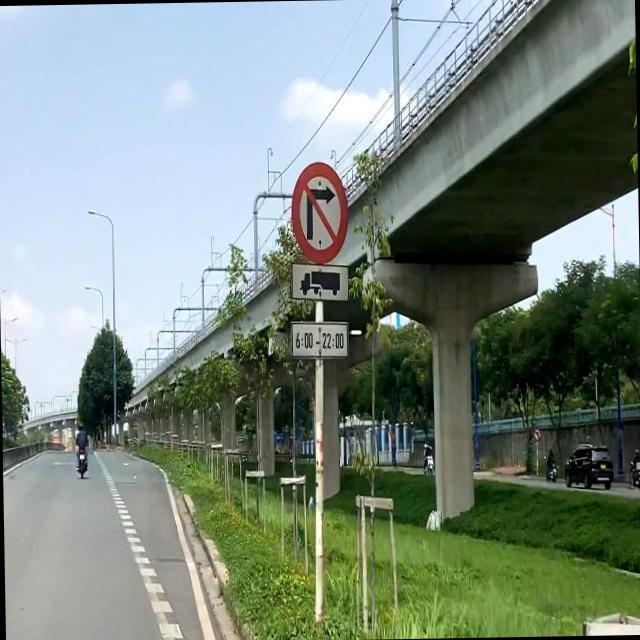P-123b: (290, 158, 348, 260)
